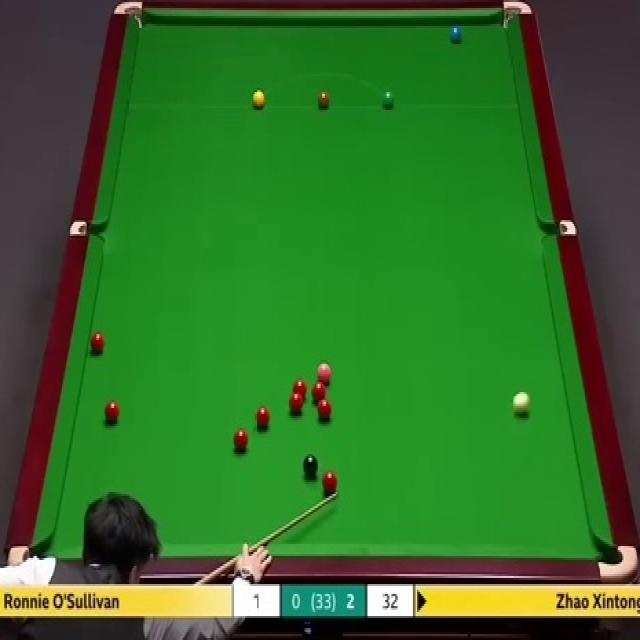pocket: (597, 541, 638, 581), (502, 1, 532, 30), (8, 542, 49, 561), (72, 220, 104, 242), (116, 1, 142, 28), (540, 220, 576, 239)
